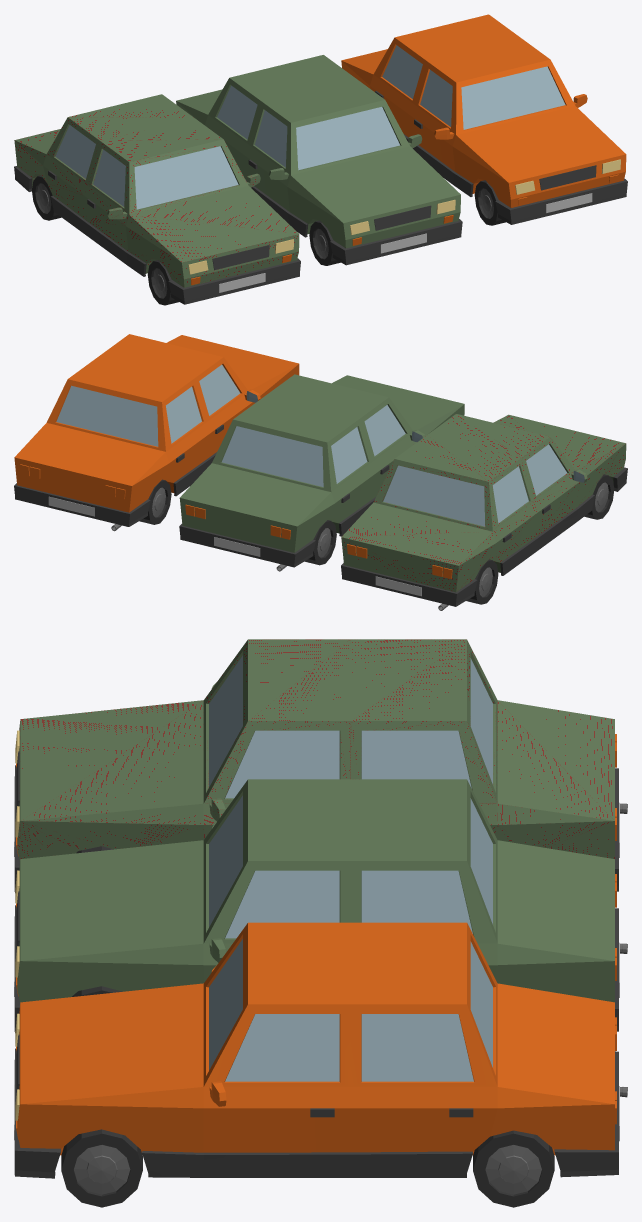
File: car_4.fbx
3 views of the same model, one above another, from view 1: azimuth 30°, elevation 25°; view 2: azimuth 150°, elevation 25°; view 3: azimuth 270°, elevation 25° (orthographic). The views are drawn at different scales.
Parts seen in each view (by area): view 1: 4.0, 4.2, 4.1; view 2: 4.0, 4.2, 4.1; view 3: 4.2, 4.1, 4.0.
Part boxes in pixels (<box>): 4.0: <box>14,94,300,305</box>; 4.2: <box>341,14,627,225</box>; 4.1: <box>176,55,462,265</box>; 4.0: <box>341,414,627,610</box>; 4.2: <box>14,334,299,531</box>; 4.1: <box>179,374,464,571</box>; 4.2: <box>14,922,627,1207</box>; 4.1: <box>14,779,627,1032</box>; 4.0: <box>14,639,627,892</box>.
Bounding box in the file's own units: 669 × 145 × 418.
Materials: 1 (1 with a texture image).
